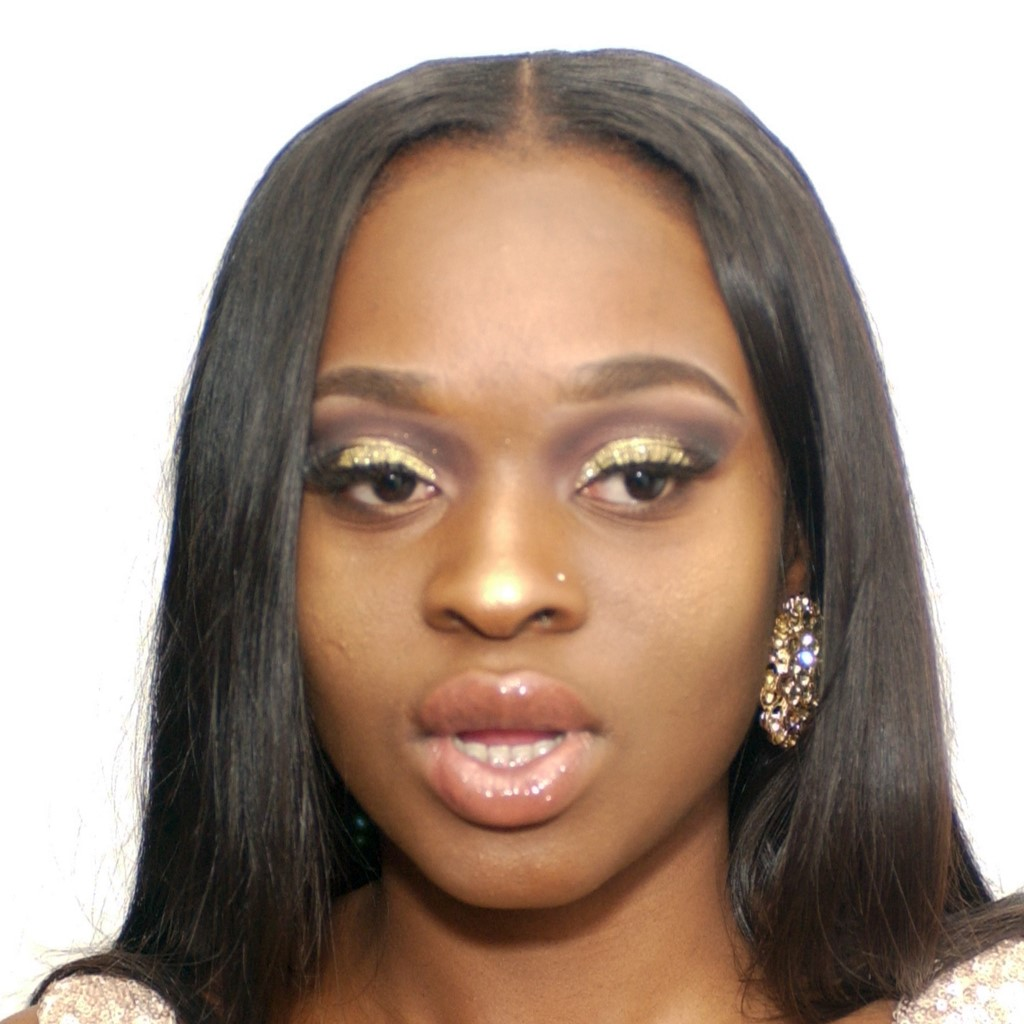sin_mascara: (279, 190, 805, 918)
